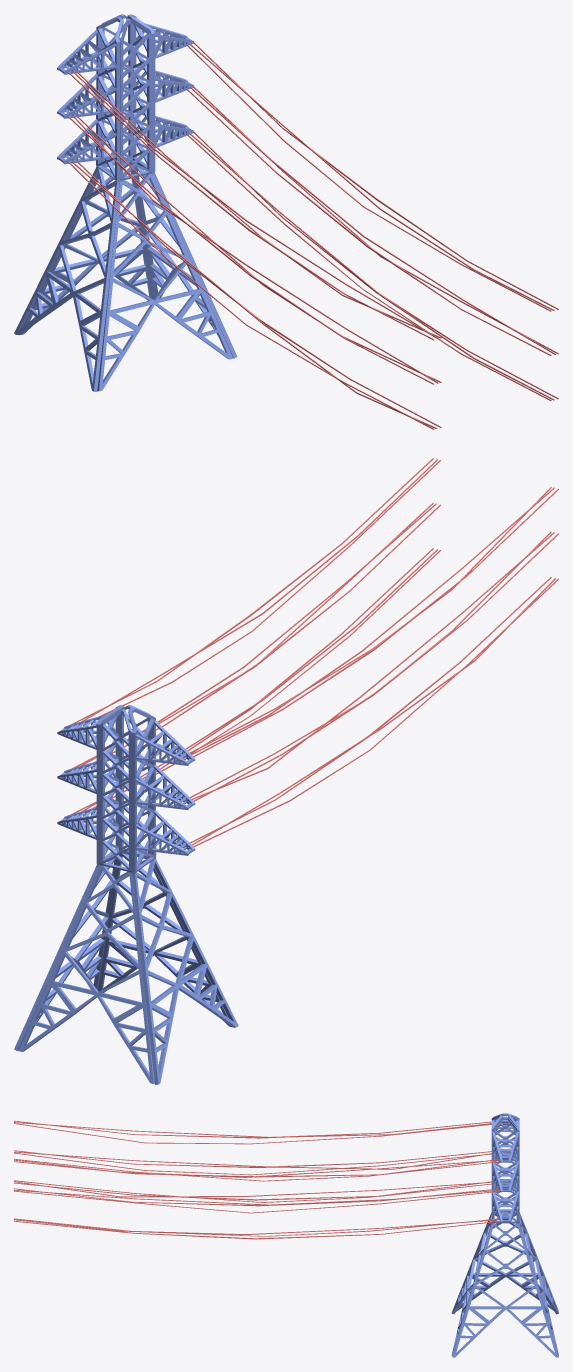
The model's file is TT_3D_Wires.fbx.
3 views of the same model, one above another, from view 1: azimuth 30°, elevation 25°; view 2: azimuth 150°, elevation 25°; view 3: azimuth 270°, elevation 25° (orthographic). The views are drawn at different scales.
Parts seen in each view (by area): view 1: TT_3D_Wires; view 2: TT_3D_Wires; view 3: TT_3D_Wires.
Part boxes in pixels (x1,y1,x2,y2): TT_3D_Wires: (14,14,558,429); TT_3D_Wires: (14,458,558,1084); TT_3D_Wires: (14,1113,558,1357).
Size of the model in its own units: 7.73 by 16.92 by 38.08.
